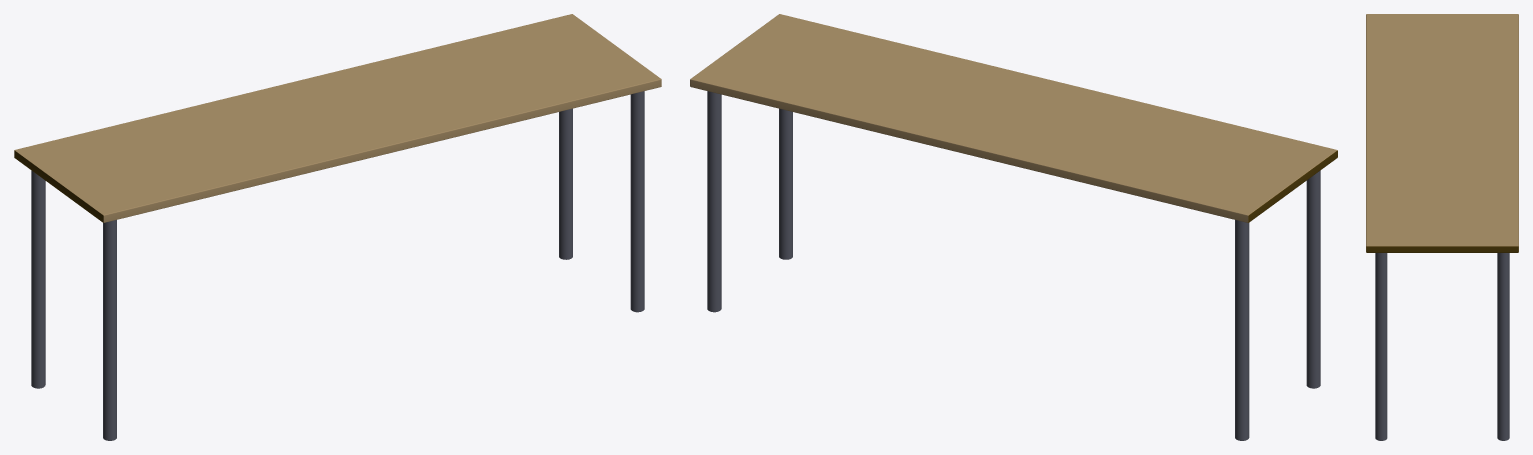
Rendered from Table.fbx.
3 renders of one model, left to right at view 1: azimuth 30°, elevation 25°; view 2: azimuth 150°, elevation 25°; view 3: azimuth 270°, elevation 25°, orthographic. The views are drawn at different scales.
Visible parts, largest first — view 1: slab, leg2, leg, leg1, leg3; view 2: slab, leg3, leg, leg1, leg2; view 3: slab, leg2, leg3.
Part boxes in pixels (<box>): slab: <box>14,14,661,222</box>; leg2: <box>630,91,644,312</box>; leg: <box>31,170,45,388</box>; leg1: <box>103,220,116,440</box>; leg3: <box>559,108,572,259</box>; slab: <box>690,14,1337,222</box>; leg3: <box>707,91,721,312</box>; leg: <box>1235,220,1249,440</box>; leg1: <box>1306,170,1320,388</box>; leg2: <box>779,108,792,259</box>; slab: <box>1366,14,1518,252</box>; leg2: <box>1375,253,1387,440</box>; leg3: <box>1497,253,1509,440</box>.
Bounding box in the file's own units: 180 × 71.81 × 50.
